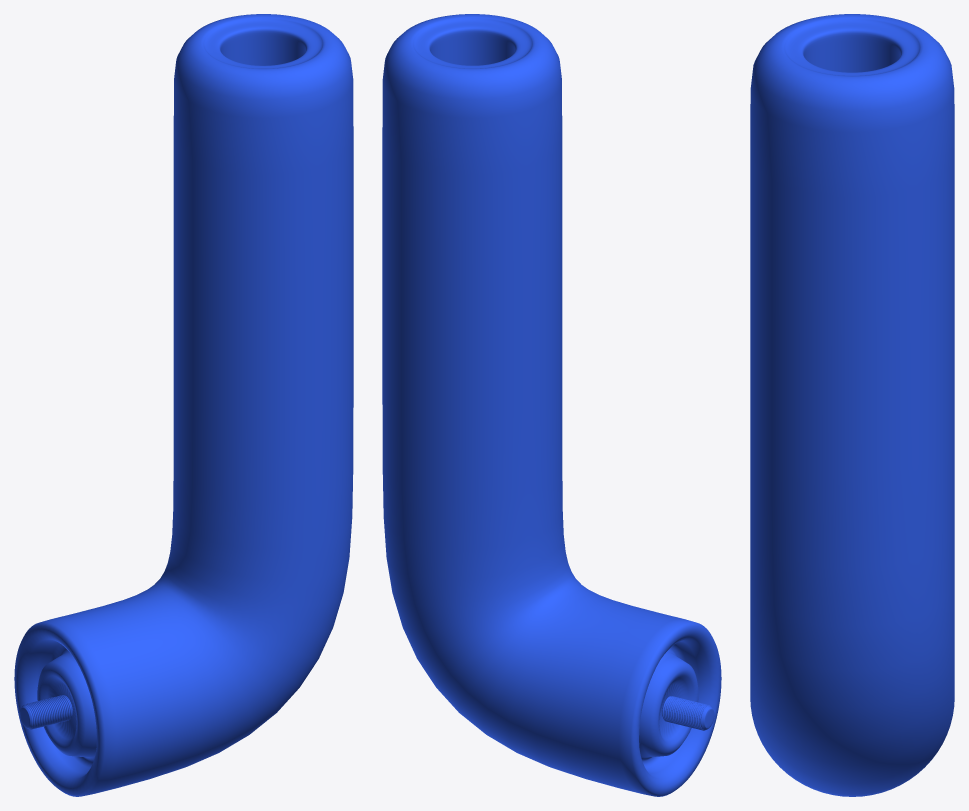
Rendered from BrancheGauche.glb.
3 views of the same model, side by side, from view 1: azimuth 30°, elevation 25°; view 2: azimuth 150°, elevation 25°; view 3: azimuth 270°, elevation 25° (orthographic). The views are drawn at different scales.
Visible parts, largest first — view 1: BrancheDroite.003; view 2: BrancheDroite.003; view 3: BrancheDroite.003.
Boxes of the visible parts, x1,y1,x2,y2 form: BrancheDroite.003: (14,14,353,796); BrancheDroite.003: (382,14,721,796); BrancheDroite.003: (750,14,954,796).
Bounding box in the file's own units: 1.33 × 2.81 × 0.6558.
